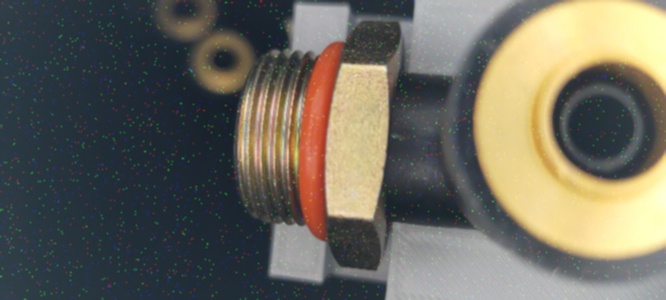white mark: (386, 129, 403, 140)
